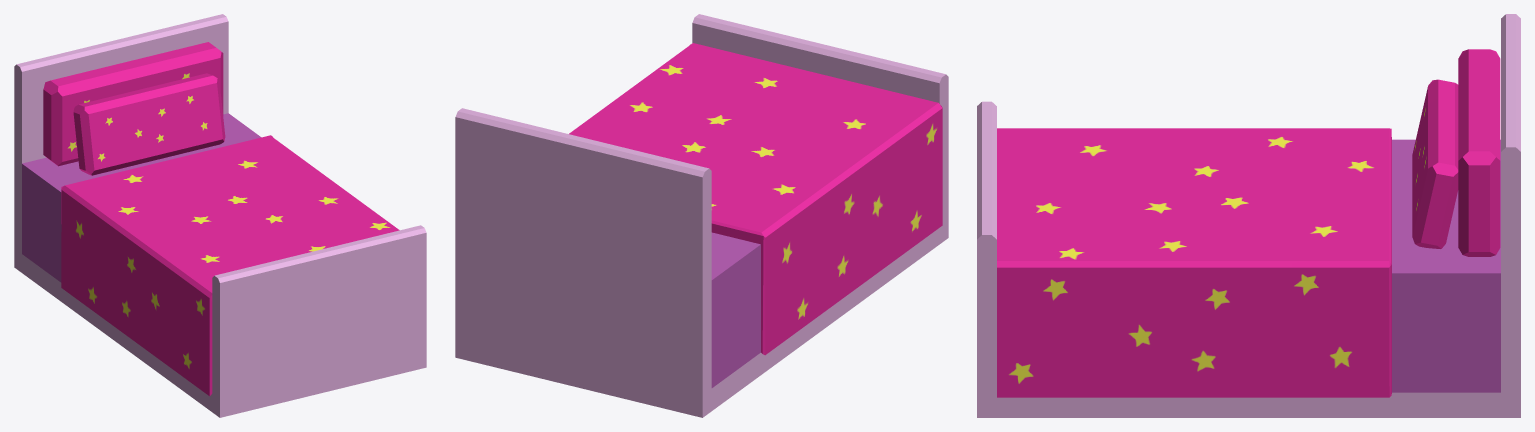
The model's file is Bed_Bedroom_01.fbx.
3 views of the same model, side by side, from view 1: azimuth 30°, elevation 25°; view 2: azimuth 150°, elevation 25°; view 3: azimuth 270°, elevation 25° (orthographic). The views are drawn at different scales.
Parts seen in each view (by area): view 1: Bedbase_01, Pillow_02, Pillow_01; view 2: Bedbase_01; view 3: Bedbase_01, Pillow_01, Pillow_02.
Part boxes in pixels (bbox=[...]): Bedbase_01: bbox=[14, 14, 426, 417]; Pillow_02: bbox=[73, 73, 225, 175]; Pillow_01: bbox=[43, 42, 223, 166]; Bedbase_01: bbox=[455, 14, 948, 417]; Bedbase_01: bbox=[977, 14, 1520, 417]; Pillow_01: bbox=[1458, 49, 1500, 256]; Pillow_02: bbox=[1412, 79, 1458, 248].
Bounding box in the file's own units: 0.5893 × 0.5433 × 0.9897.
